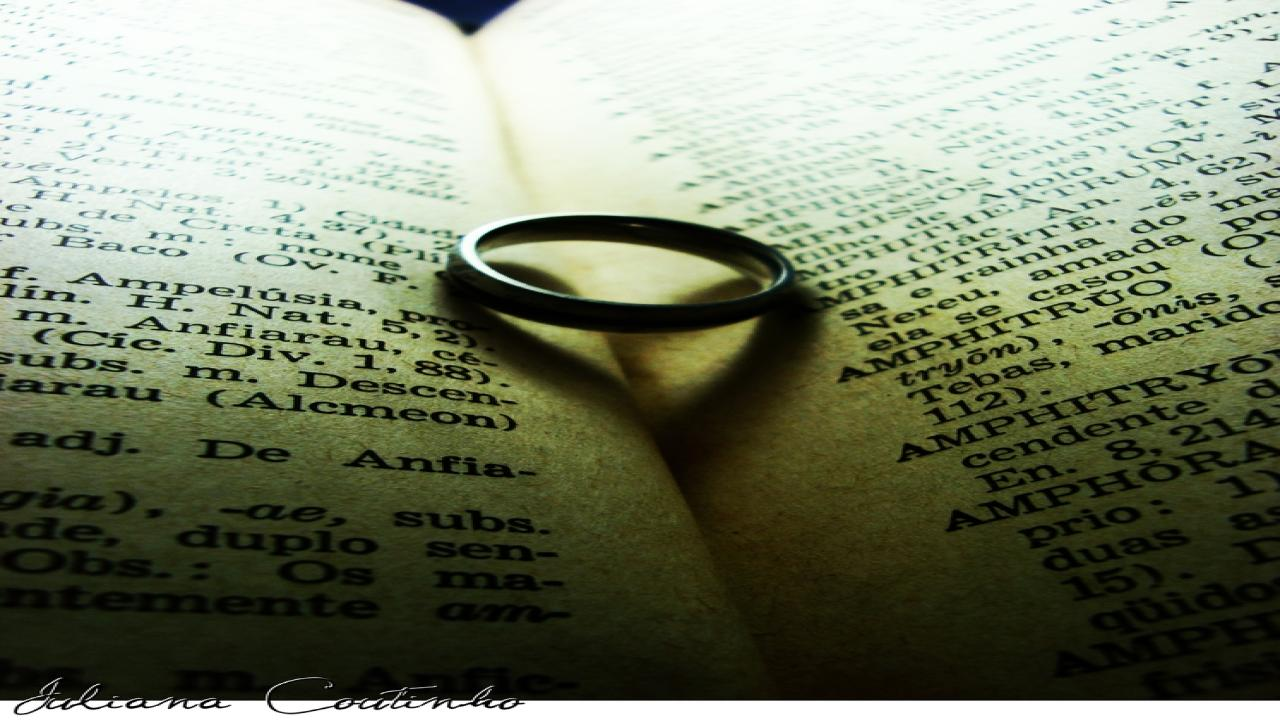ring: (443, 204, 813, 334)
